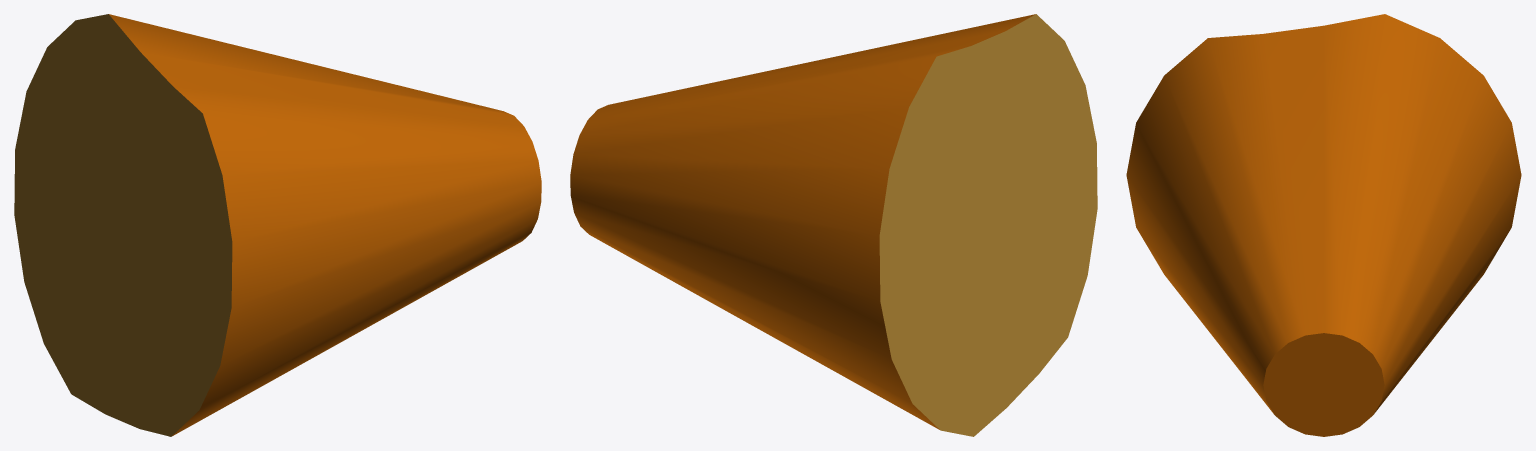
Rendered from mesh_CarrotSlice_Stage02.fbx.
The picture shows the model from 3 angles, left to right: view 1: azimuth 30°, elevation 25°; view 2: azimuth 150°, elevation 25°; view 3: azimuth 270°, elevation 25°; orthographic projection. The views are drawn at different scales.
Parts seen in each view (by area): view 1: mesh_CarrotSlice_Stage02; view 2: mesh_CarrotSlice_Stage02; view 3: mesh_CarrotSlice_Stage02.
Boxes of the visible parts, box(x1,y1,x2,y2) form: mesh_CarrotSlice_Stage02: box(14, 14, 541, 436); mesh_CarrotSlice_Stage02: box(570, 14, 1097, 436); mesh_CarrotSlice_Stage02: box(1126, 14, 1521, 436).
Size of the model in its own units: 0.00972 by 0.00842 by 0.0089.
